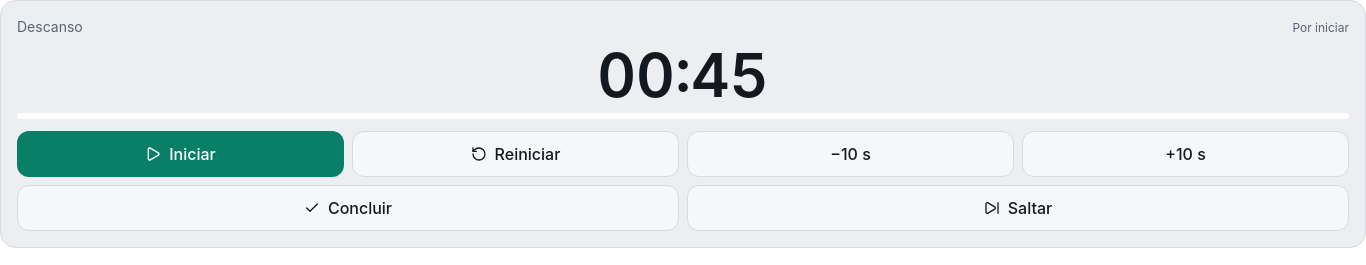
Test: componente de contagem decrescente › reiniciar devolve o tempo total
Click the button "Iniciar": {"x": 180, "y": 154} [17,131,344,177]
Wait 20000 ms
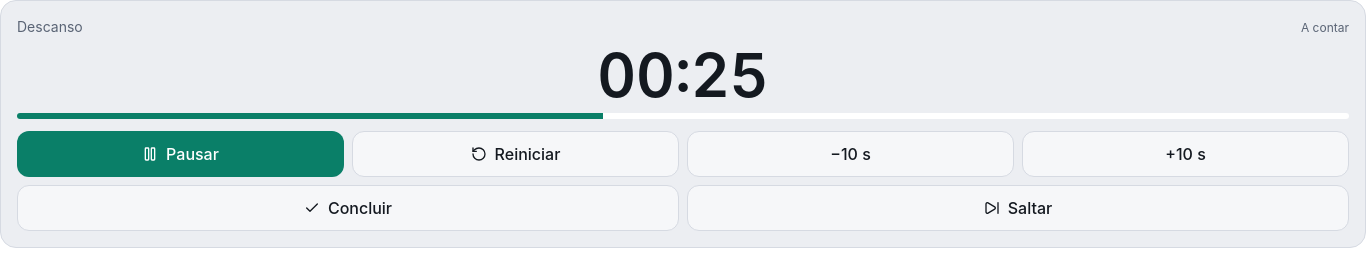
Click the button "Reiniciar": {"x": 516, "y": 154} [352,131,679,177]
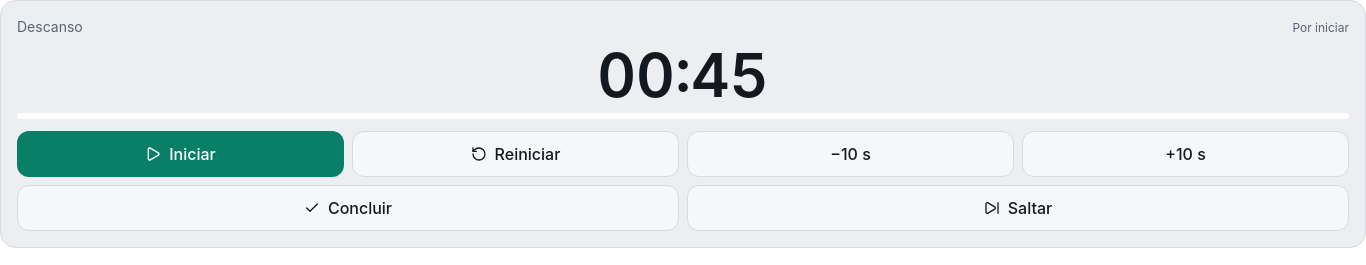
Check: the message reads "Por iniciar", box [1292,20,1349,35]
